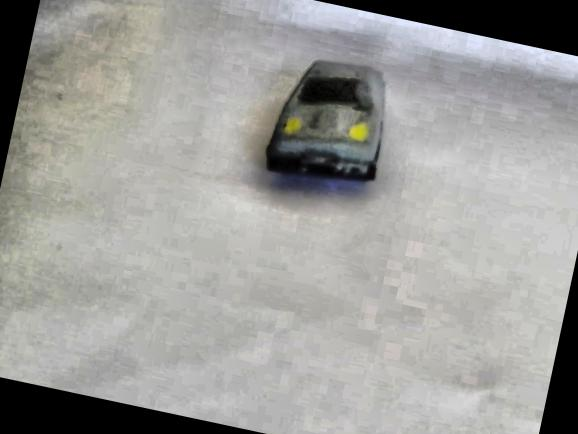normal_car: (256, 44, 403, 196)
